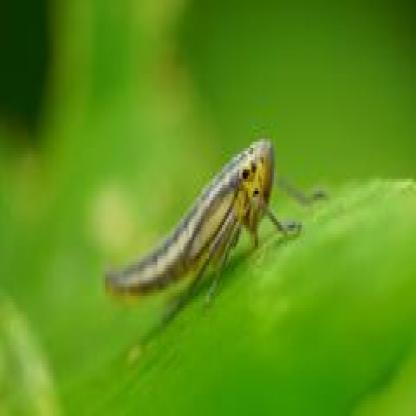Green-Leafhopper: (98, 128, 328, 301)
